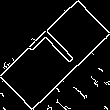L_SE: (27, 26, 83, 84)
